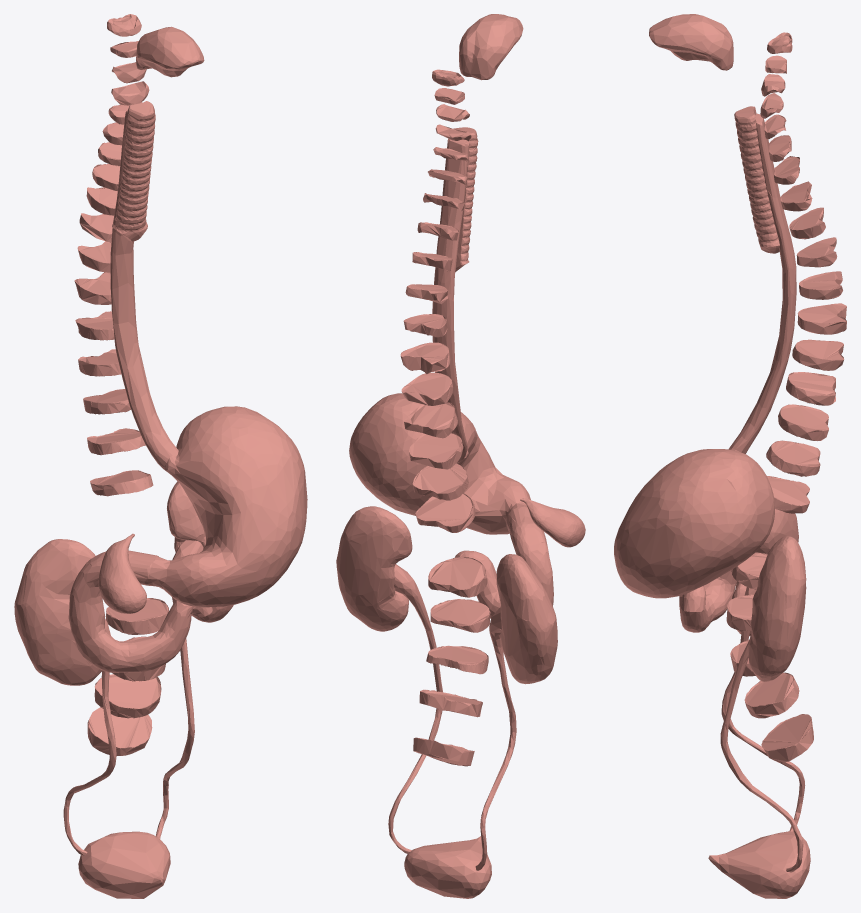
The model's file is organs.glb.
3 renders of one model, left to right at view 1: azimuth 30°, elevation 25°; view 2: azimuth 150°, elevation 25°; view 3: azimuth 270°, elevation 25°, orthographic. The views are drawn at different scales.
Parts seen in each view (by area): view 1: stomach, r-kidney, duodenum, esophagus, bladder, trachea, tongue, gallbladder, disc-21, disc-22, l-kidney, l-ureter (+14 smaller); view 2: stomach, l-kidney, r-kidney, bladder, esophagus, duodenum, tongue, l-ureter, disc-18, r-ureter, gallbladder, disc-17 (+13 smaller); view 3: stomach, l-kidney, esophagus, bladder, tongue, trachea, duodenum, l-ureter, disc-22, disc-21, disc-16, disc-15 (+14 smaller).
Boxes of the visible parts, x1,y1,x2,y2 form: stomach: (147, 406, 307, 607); r-kidney: (14, 539, 102, 685); duodenum: (68, 550, 212, 672); esophagus: (110, 111, 178, 469); bladder: (78, 831, 170, 898); trachea: (112, 101, 155, 241); tongue: (136, 26, 204, 77); gallbladder: (98, 533, 146, 613); disc-21: (94, 674, 161, 718); disc-22: (87, 707, 152, 755); l-kidney: (167, 481, 233, 622); l-ureter: (156, 540, 203, 838); stomach: (349, 393, 530, 534); l-kidney: (336, 506, 412, 631); r-kidney: (496, 554, 557, 684); bladder: (404, 836, 491, 898); esophagus: (432, 138, 469, 463); duodenum: (454, 507, 553, 618); tongue: (459, 14, 523, 80); l-ureter: (388, 564, 442, 853); disc-18: (428, 557, 487, 597); r-ureter: (475, 607, 516, 870); gallbladder: (520, 498, 585, 547); disc-17: (415, 493, 475, 532); stomach: (614, 449, 774, 598); l-kidney: (748, 536, 806, 681); esophagus: (729, 113, 796, 453); bladder: (708, 831, 810, 898); tongue: (649, 14, 733, 70); trachea: (734, 106, 779, 253); duodenum: (679, 570, 736, 632); l-ureter: (720, 639, 803, 872); disc-22: (761, 714, 813, 762); disc-21: (744, 672, 799, 718); disc-16: (766, 440, 820, 476); disc-15: (778, 404, 828, 440).
Bounding box in the file's own units: 0.1931 × 0.6776 × 0.1633.
